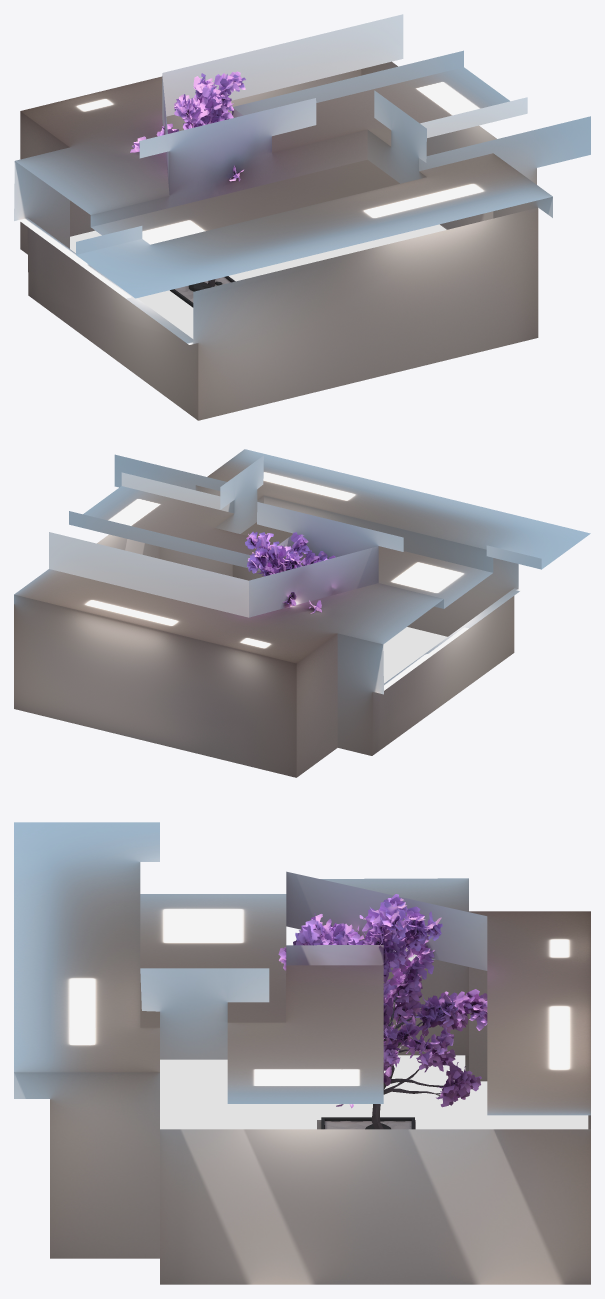
Rendered from modal.gltf.
The picture shows the model from 3 angles, top to bottom: view 1: azimuth 30°, elevation 25°; view 2: azimuth 150°, elevation 25°; view 3: azimuth 270°, elevation 25°; orthographic projection. The views are drawn at different scales.
Visible parts, largest first — view 1: hall, teleport, tree; view 2: hall, tree, teleport; view 3: hall, teleport, tree.
Boxes of the visible parts, x1=… form: hall: x1=14, y1=14, x2=590, y2=420; teleport: x1=70, y1=224, x2=446, y2=338; tree: x1=130, y1=71, x2=245, y2=286; hall: x1=14, y1=449, x2=590, y2=777; tree: x1=245, y1=531, x2=335, y2=613; teleport: x1=383, y1=627, x2=447, y2=683; hall: x1=14, y1=822, x2=590, y2=1284; teleport: x1=160, y1=1055, x2=588, y2=1129; tree: x1=278, y1=894, x2=487, y2=1129.
Size of what is drawn, in the model's own units: 18.78 by 7.27 by 14.86.
3 materials, 2 textured.
